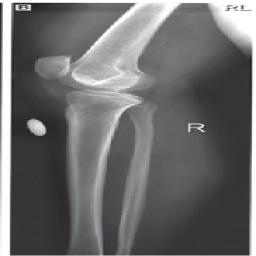cancer: (118, 115, 153, 254)
